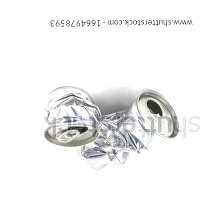can: (73, 87, 182, 180), (38, 83, 102, 150)
